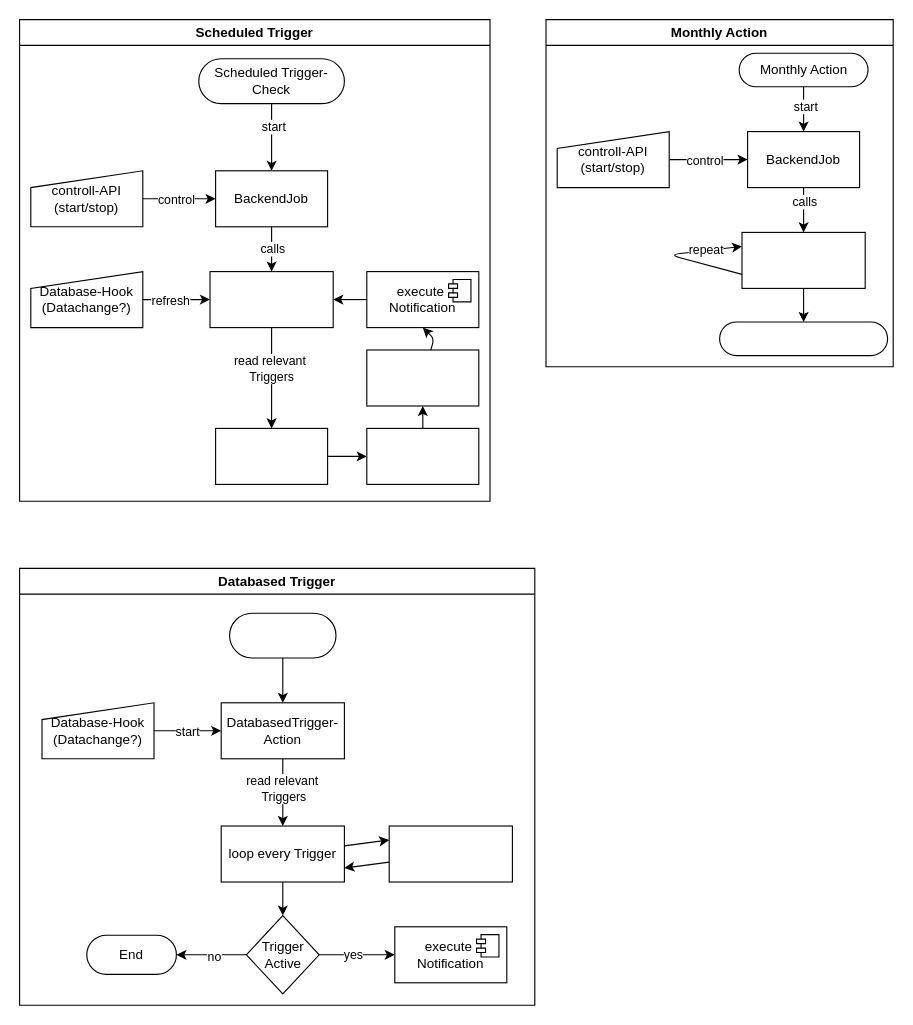
Image size: 913x1025. Some labels were removed from this diagram. Here are the shapes that lost their labels. From the top down, the box of each, then its label:
(741, 231, 865, 288): MonthlyAction
(209, 270, 333, 328): ScheduledTrigger-Action
(718, 321, 888, 356): Reset (XP, Leaderboard, ...)
(366, 349, 479, 406): check Databased contitions
(214, 427, 328, 484): Select * from VIEW
(366, 427, 479, 484): Wait till 'next_run'
(228, 612, 336, 658): Databased Trigger Check
(388, 825, 512, 882): check Condition (for each Group)
